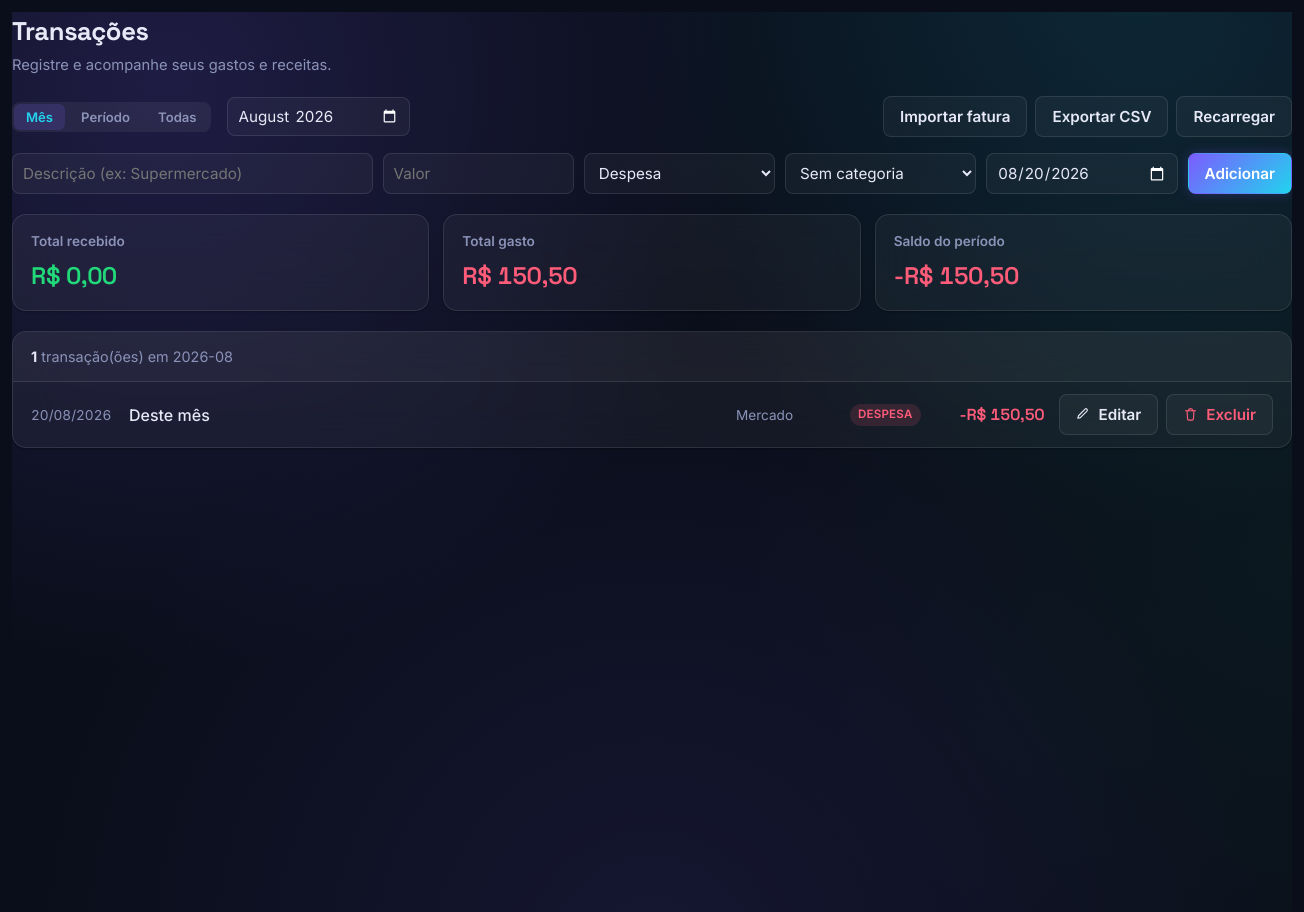
Test: Transacoes › filtro de mês esconde transações de outros meses, e 'Todas' mostra tudo
This screenshot has width=1304, height=912.
Expected: the text "Deste mês" is shown, top-left (129, 405), bottom-right (210, 425)
Expected: the text "De 2015" is not shown
Click the button "Todas". click: coordinates (177, 117)
box: top-left (146, 104), bottom-right (208, 130)
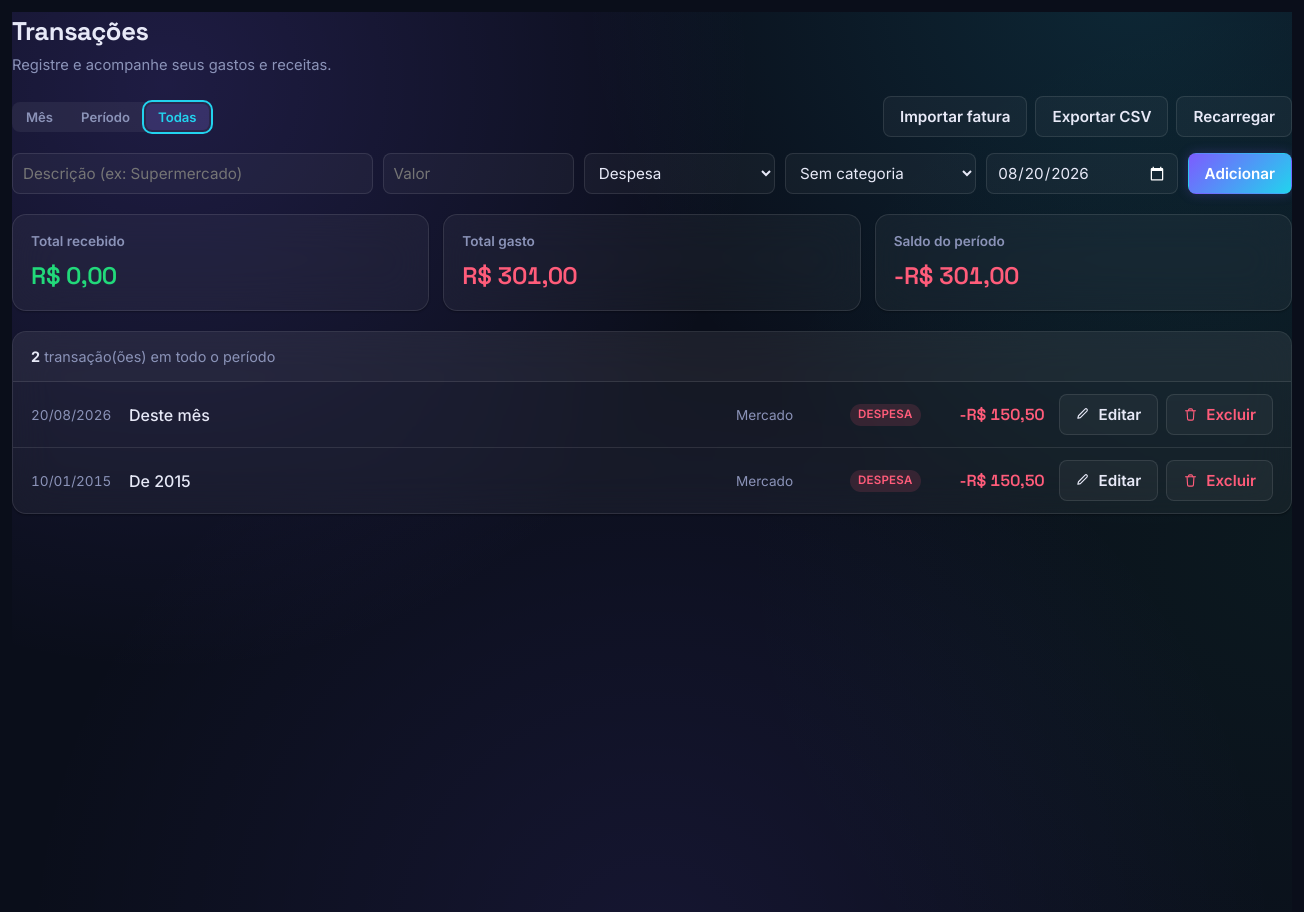
Expected: the text "Deste mês" is shown, top-left (129, 405), bottom-right (210, 425)
Expected: the text "De 2015" is shown, top-left (129, 471), bottom-right (191, 491)
